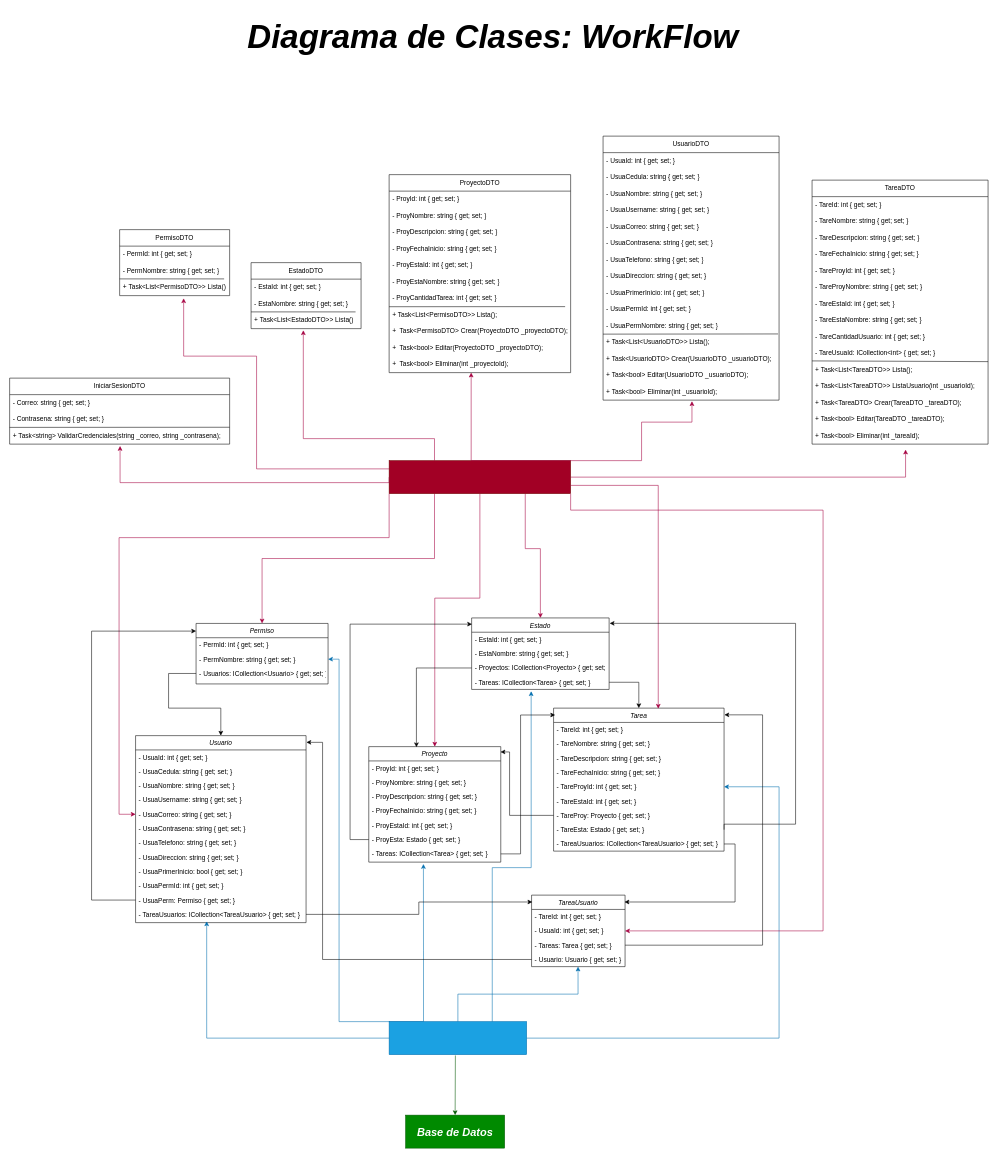
The diagram is 998 pixels wide and 1158 high, and some of its shapes have lost their labels. The centre of each missing label's shape, as x and y in pixels:
"AutoMapper (Extension de NuGet)" belongs at (480,477).
"Contexto" belongs at (458,1038).
